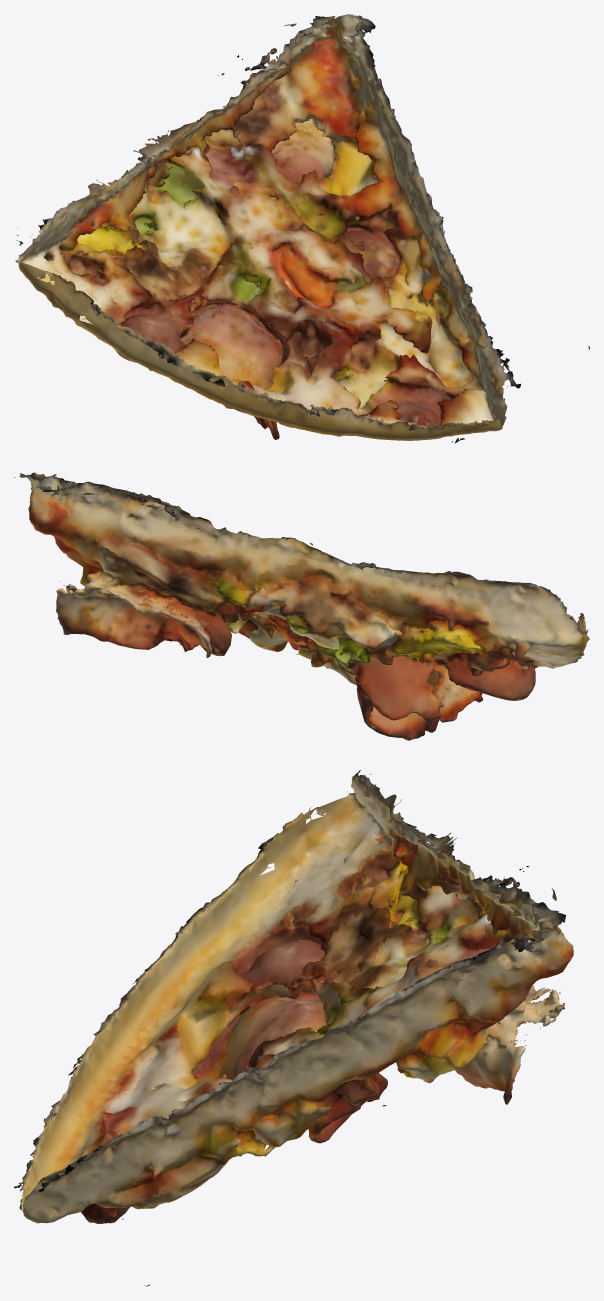
The model's file is pizza_38039.obj.
3 views of the same model, one above another, from view 1: azimuth 30°, elevation 25°; view 2: azimuth 150°, elevation 25°; view 3: azimuth 270°, elevation 25° (orthographic). The views are drawn at different scales.
Size of the model in its own units: 1.61 by 0.8472 by 1.27.
1 material, 1 textured.
